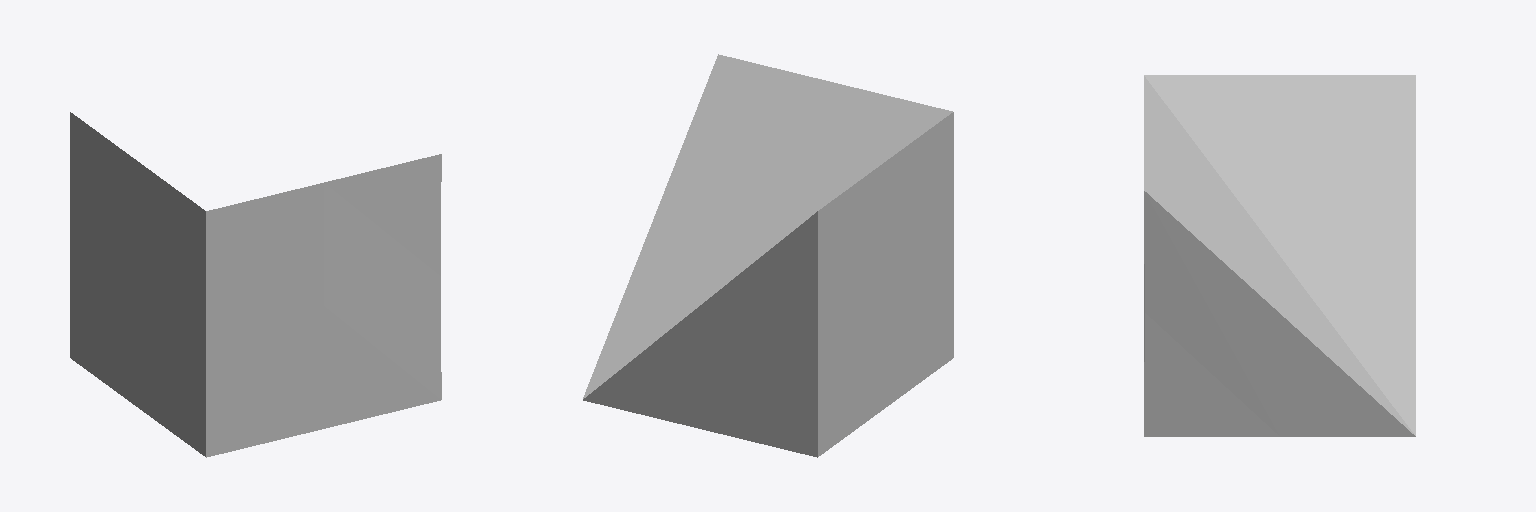
The model's file is SlopeMid3.obj.
The picture shows the model from 3 angles: view 1: azimuth 30°, elevation 25°; view 2: azimuth 150°, elevation 25°; view 3: azimuth 270°, elevation 25°; orthographic projection.
Parts seen in each view (by area): view 1: SlopeMid3_Cube.009; view 2: SlopeMid3_Cube.009; view 3: SlopeMid3_Cube.009.
Boxes of the visible parts, <box> form: SlopeMid3_Cube.009: <box>70,112,441,457</box>; SlopeMid3_Cube.009: <box>583,54,953,457</box>; SlopeMid3_Cube.009: <box>1144,75,1415,436</box>.
Bounding box in the file's own units: 1 × 1 × 1.